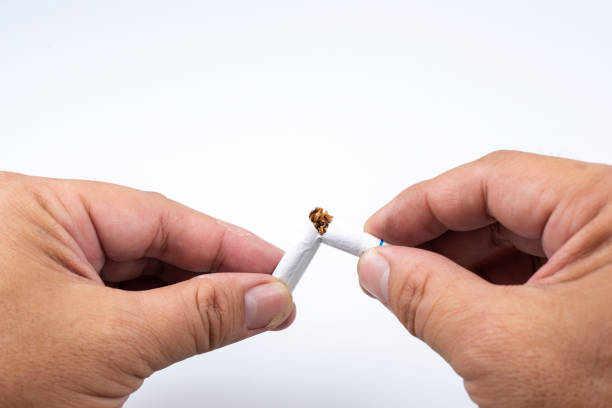cigarette: (269, 202, 323, 294), (318, 211, 394, 257)
